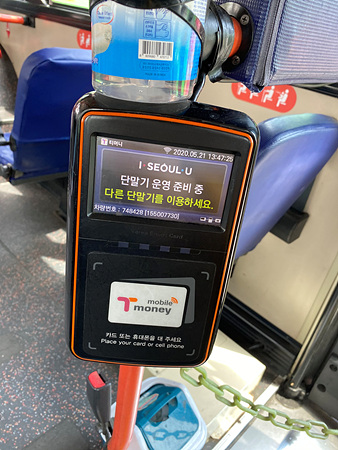terminal: (71, 98, 231, 369)
